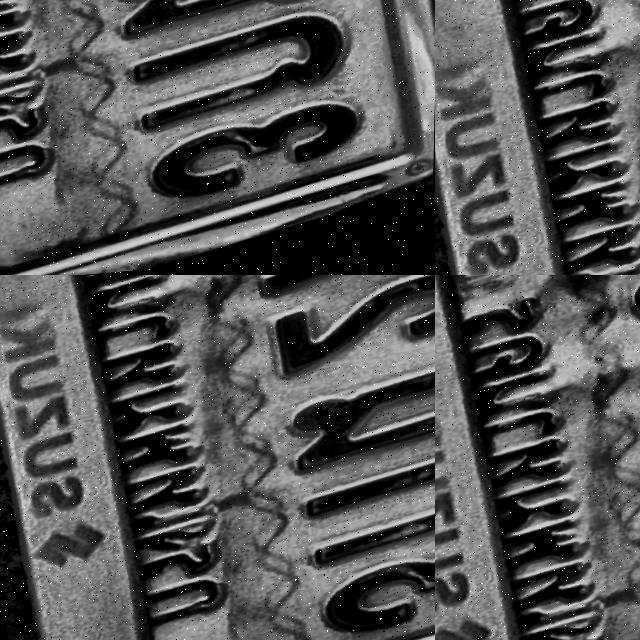license-plate: (0, 0, 435, 275), (435, 275, 640, 640)
